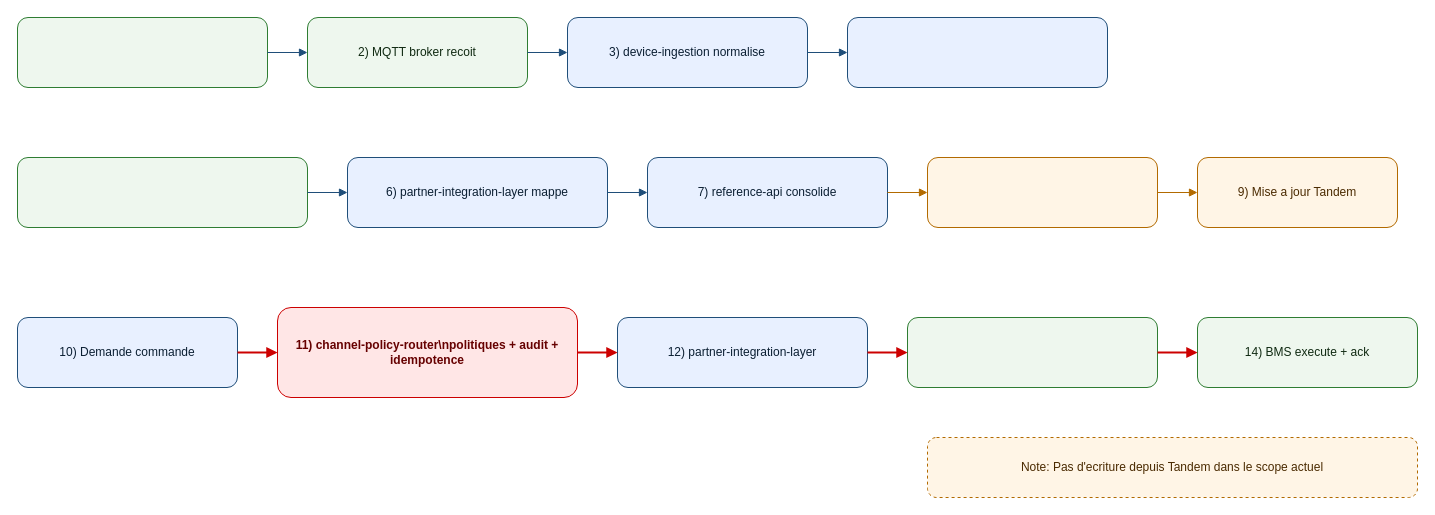
Image size: 1435x515. Some labels were removed from this diagram. The centre of each missing label's shape, as x and y in pixels:
1) Gateway publish telemetrie: point (142, 52)
13) EDGE traduit protocole: point (1032, 352)
4) reference-api stocke canonique: point (977, 52)
5) BMS etat via EDGE (AS-P/PXC): point (162, 192)
8) Push vers Tandem Connect: point (1042, 192)
